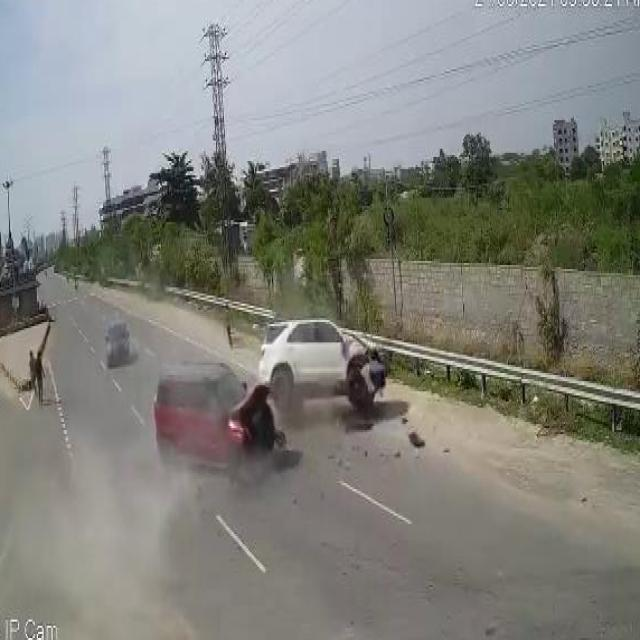accident: (140, 306, 432, 502)
